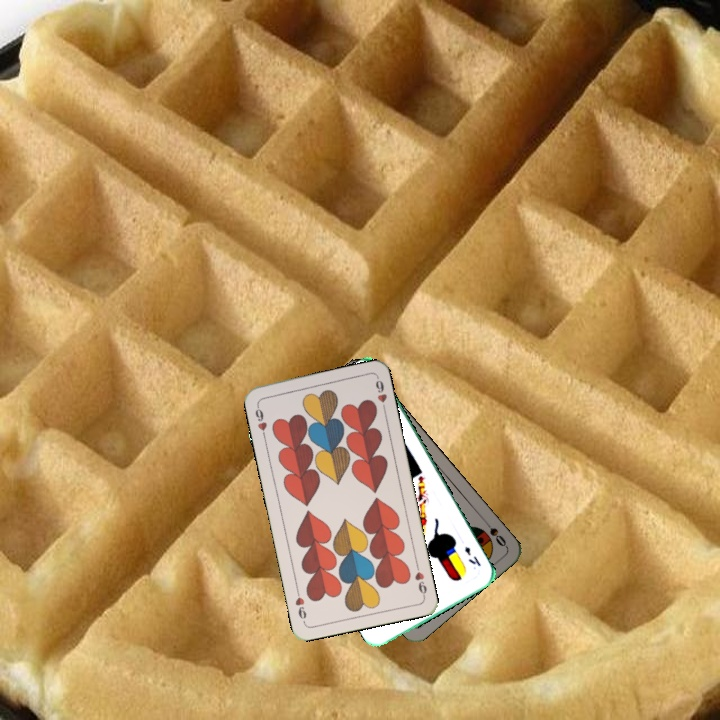EK: (460, 542, 483, 569)
H9: (251, 400, 270, 440), (411, 559, 429, 599)
SO: (479, 515, 509, 549)
